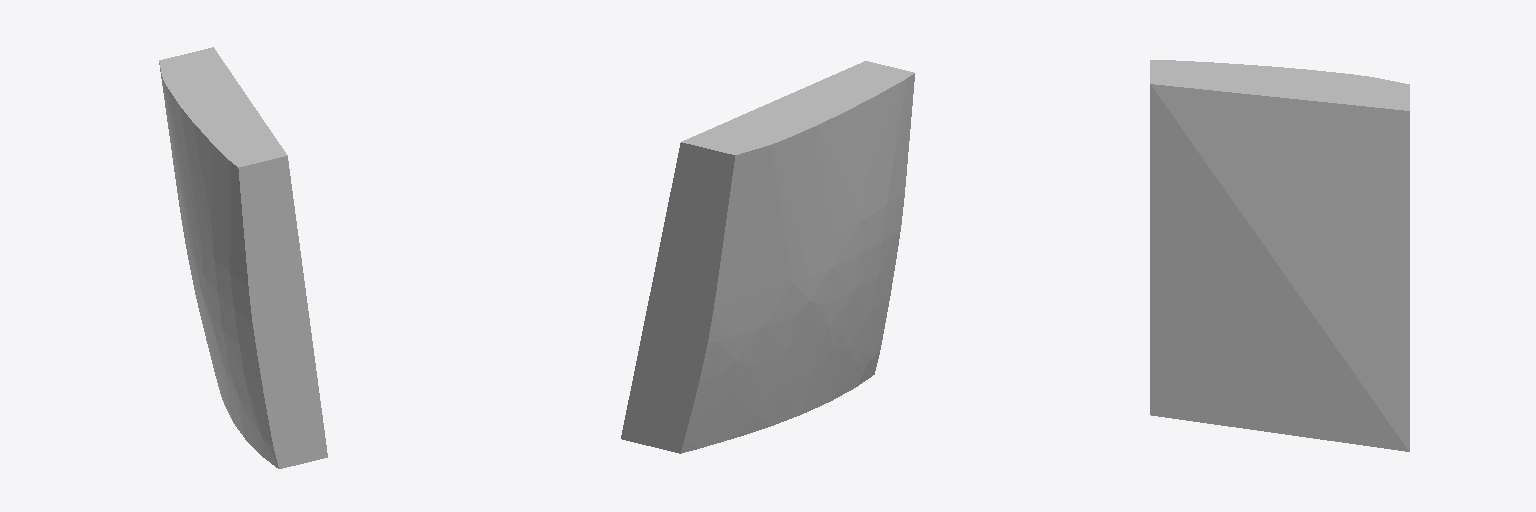
File: phantom-elastrat_collision_173.obj
3 views of the same model, side by side, from view 1: azimuth 30°, elevation 25°; view 2: azimuth 150°, elevation 25°; view 3: azimuth 270°, elevation 25° (orthographic).
Bounding box in the file's own units: 0.0055 × 0.0099 × 0.0074.